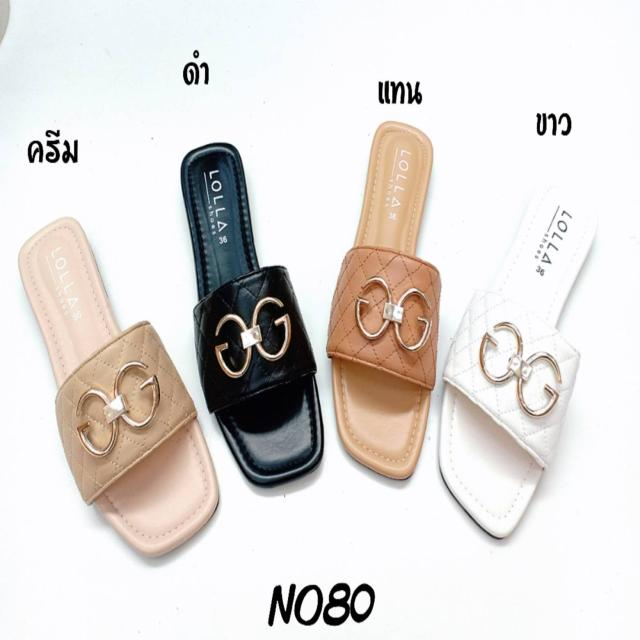black: (184, 139, 319, 478)
cream: (23, 224, 211, 561)
tan: (330, 123, 434, 480)
white: (437, 191, 596, 540)
